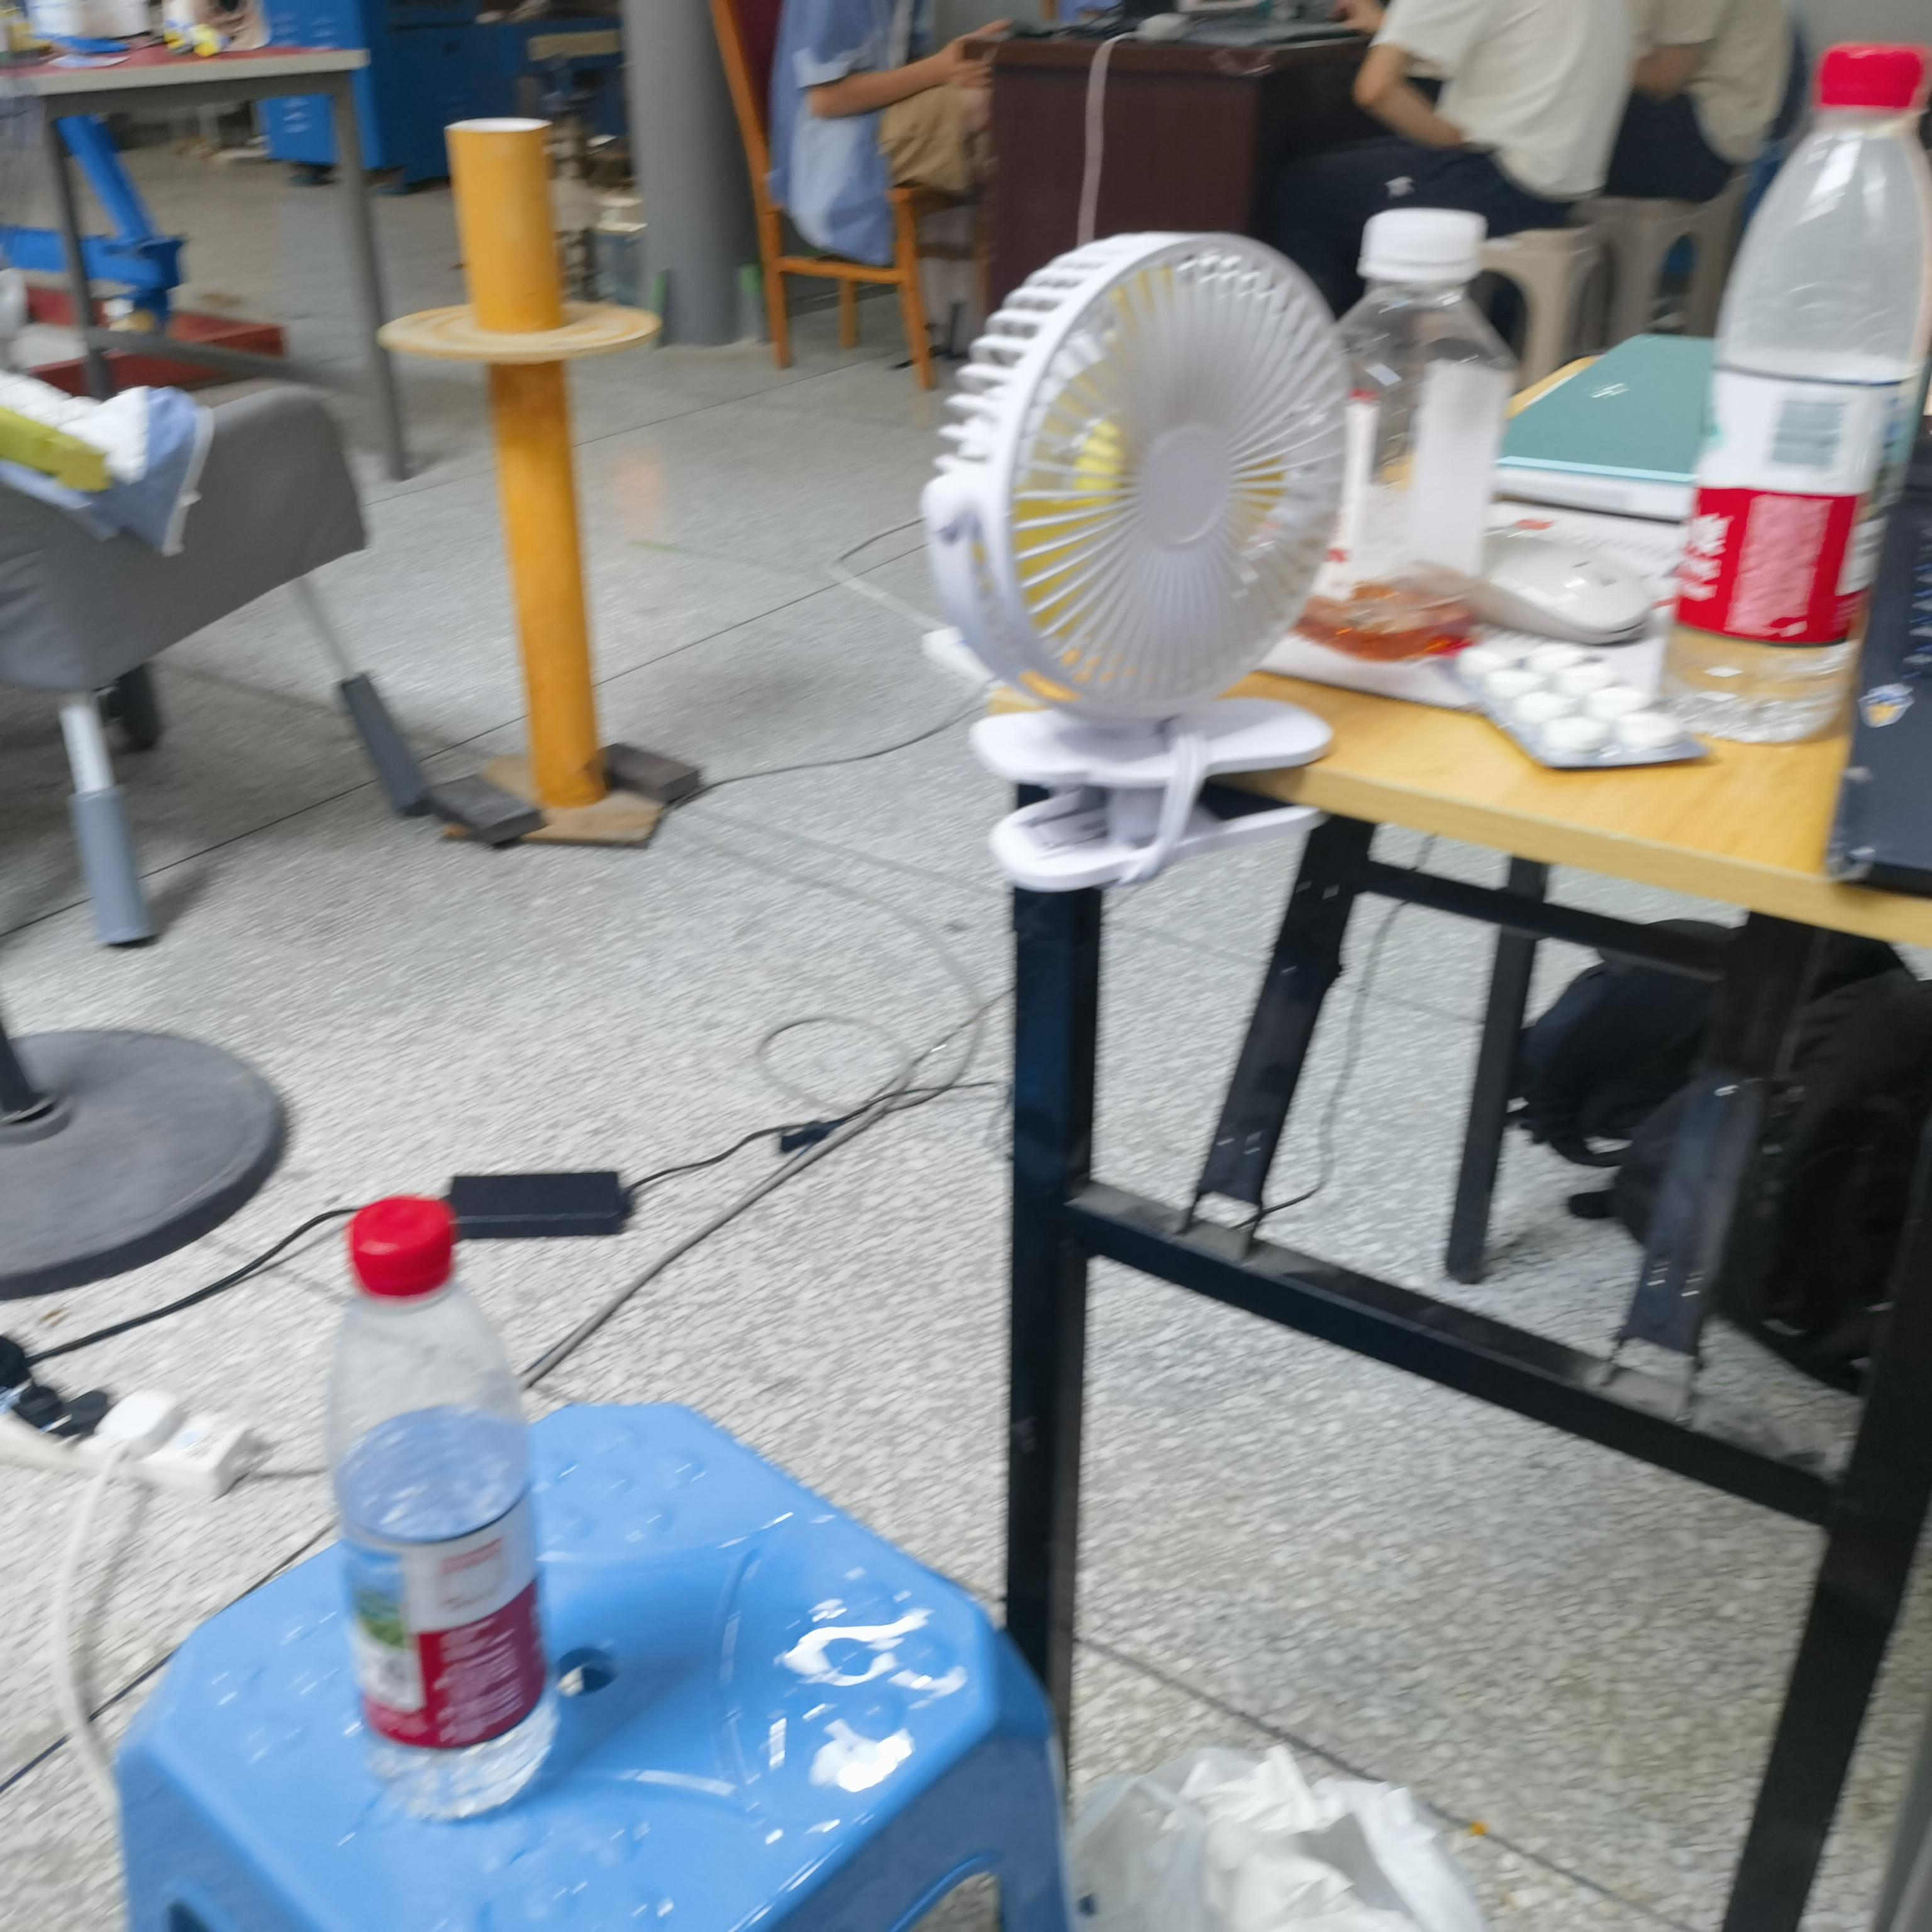bottle: (315, 1187, 570, 1844)
fan: (911, 218, 1352, 906)
